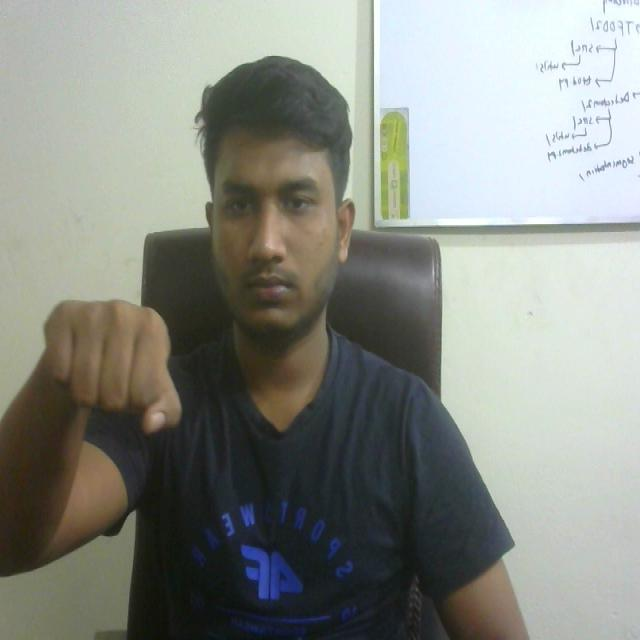I: (30, 279, 200, 460)
